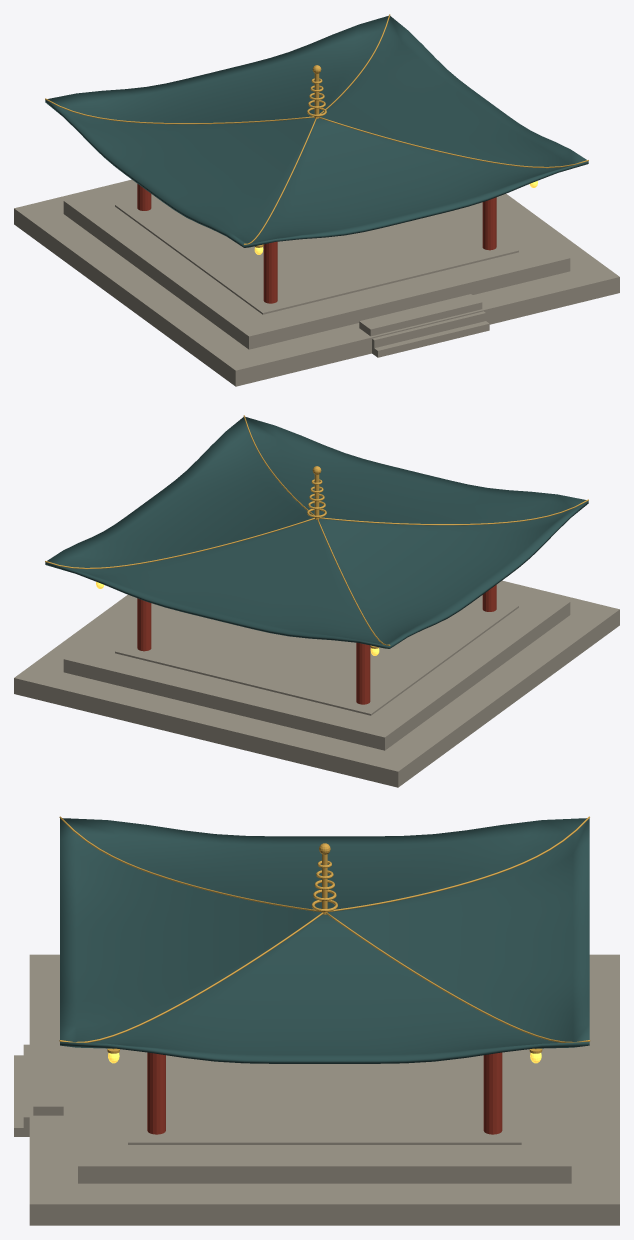
The picture shows the model from 3 angles, top to bottom: view 1: azimuth 30°, elevation 25°; view 2: azimuth 150°, elevation 25°; view 3: azimuth 270°, elevation 25°; orthographic projection. The views are drawn at different scales.
Parts seen in each view (by area): view 1: Tier 1 roof, Podium lower, Podium upper, Tier 1 floor, Entry step 2, Entry step 0, Entry step 1, Tier 1 column -1 -1, Tier 1 column 1 -1, Tier 1 ridge 3, Tier 1 ridge 1; view 2: Tier 1 roof, Podium lower, Podium upper, Tier 1 floor, Tier 1 column -1 1, Tier 1 column 1 1, Tier 1 ridge 0, Tier 1 ridge 2; view 3: Tier 1 roof, Podium lower, Tier 1 floor, Podium upper, Entry step 2, Tier 1 column 1 1, Tier 1 column 1 -1, Entry step 0, Tier 1 ridge 3, Tier 1 ridge 0, Tier 1 ridge 2, Tier 1 ridge 1 (+1 smaller).
Part boxes in pixels (bbox=[...]): Tier 1 roof: bbox=[45, 16, 588, 247]; Podium lower: bbox=[14, 179, 619, 386]; Podium upper: bbox=[63, 183, 570, 349]; Tier 1 floor: bbox=[115, 195, 518, 314]; Entry step 2: bbox=[359, 294, 482, 336]; Entry step 0: bbox=[372, 321, 489, 357]; Entry step 1: bbox=[372, 311, 485, 348]; Tier 1 column -1 -1: bbox=[263, 241, 277, 303]; Tier 1 column 1 -1: bbox=[482, 197, 496, 250]; Tier 1 ridge 3: bbox=[319, 116, 588, 168]; Tier 1 ridge 1: bbox=[45, 98, 314, 124]; Tier 1 roof: bbox=[45, 417, 588, 648]; Podium lower: bbox=[14, 580, 619, 787]; Podium upper: bbox=[63, 584, 570, 750]; Tier 1 floor: bbox=[115, 596, 518, 715]; Tier 1 column -1 1: bbox=[356, 642, 370, 704]; Tier 1 column 1 1: bbox=[137, 598, 151, 651]; Tier 1 ridge 0: bbox=[45, 517, 314, 569]; Tier 1 ridge 2: bbox=[319, 499, 588, 525]; Tier 1 roof: bbox=[60, 818, 589, 1063]; Podium lower: bbox=[29, 954, 619, 1225]; Tier 1 floor: bbox=[128, 1050, 521, 1144]; Podium upper: bbox=[78, 1047, 571, 1183]; Entry step 2: bbox=[33, 1034, 63, 1115]; Tier 1 column 1 1: bbox=[483, 1052, 502, 1134]; Tier 1 column 1 -1: bbox=[147, 1052, 165, 1134]; Entry step 0: bbox=[14, 1055, 29, 1136]; Tier 1 ridge 3: bbox=[59, 912, 323, 1042]; Tier 1 ridge 0: bbox=[326, 912, 590, 1042]; Tier 1 ridge 2: bbox=[59, 816, 321, 912]; Tier 1 ridge 1: bbox=[328, 816, 589, 912].
Size of the model in its own units: 14.02 by 6.74 by 14.4.
